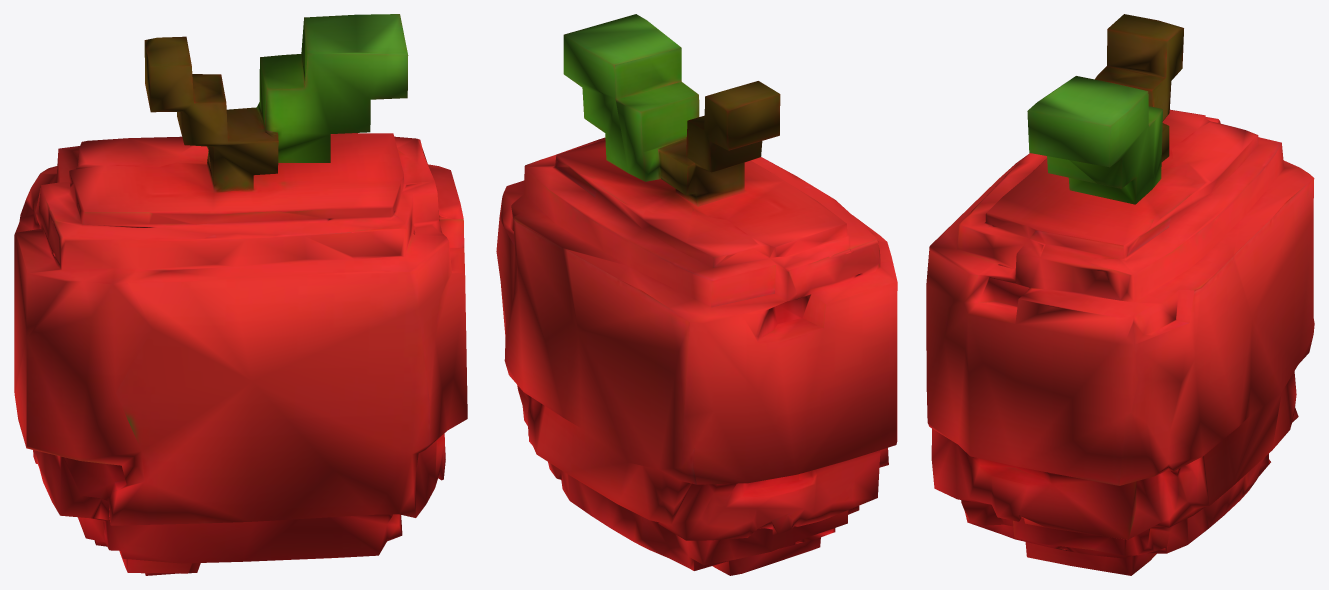
File: apple.glb
3 renders of one model, left to right at view 1: azimuth 30°, elevation 25°; view 2: azimuth 150°, elevation 25°; view 3: azimuth 270°, elevation 25°, orthographic. The views are drawn at different scales.
Parts seen in each view (by area): view 1: material; view 2: material; view 3: material.
Part boxes in pixels (left/top/right/bottom): material: left=14, top=14, right=467, bottom=575; material: left=496, top=14, right=897, bottom=575; material: left=926, top=14, right=1314, bottom=575.
Size of the model in its own units: 0.8935 by 1.01 by 0.743.
Materials: 1 (1 with a texture image).
